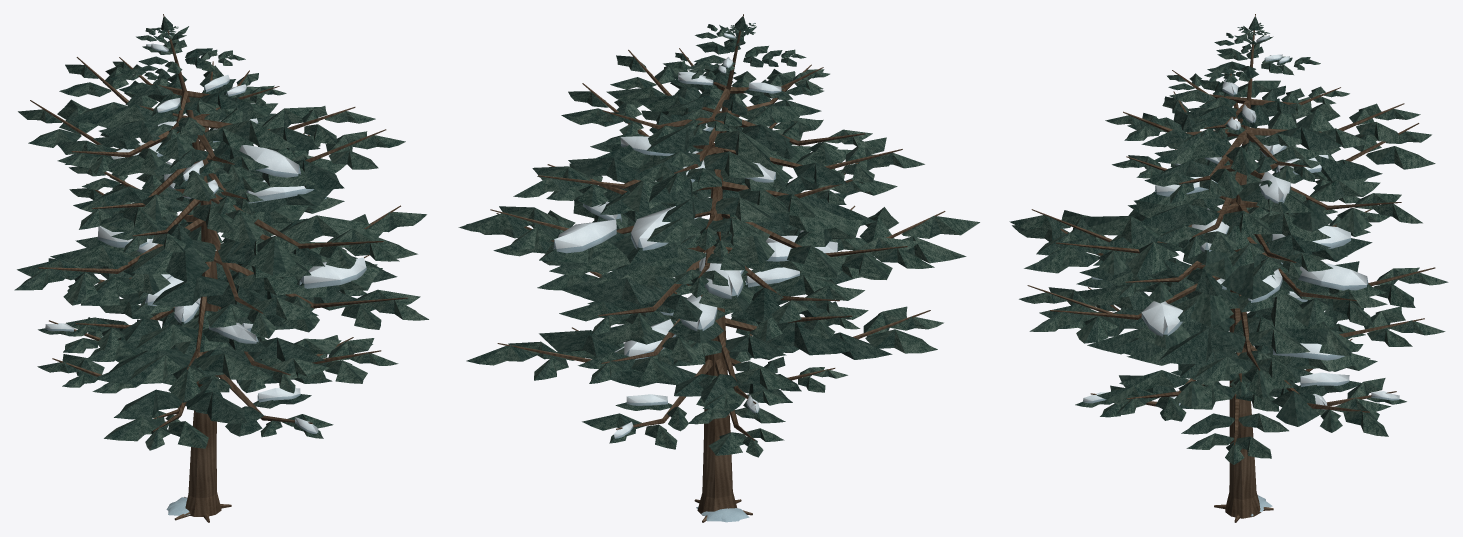
Rendered from 28_Broad_Woodland_Pine.obj.
3 renders of one model, left to right at view 1: azimuth 30°, elevation 25°; view 2: azimuth 150°, elevation 25°; view 3: azimuth 270°, elevation 25°, orthographic. The views are drawn at different scales.
Visible parts, largest first — view 1: 28_Broad_Woodland_Pine; view 2: 28_Broad_Woodland_Pine; view 3: 28_Broad_Woodland_Pine.
Part boxes in pixels (bbox=[...]): 28_Broad_Woodland_Pine: bbox=[14, 14, 428, 522]; 28_Broad_Woodland_Pine: bbox=[458, 14, 979, 522]; 28_Broad_Woodland_Pine: bbox=[1009, 14, 1448, 522].
Bounding box in the file's own units: 5.03 × 5.5 × 4.54.
Materials: 5 (5 with a texture image).
